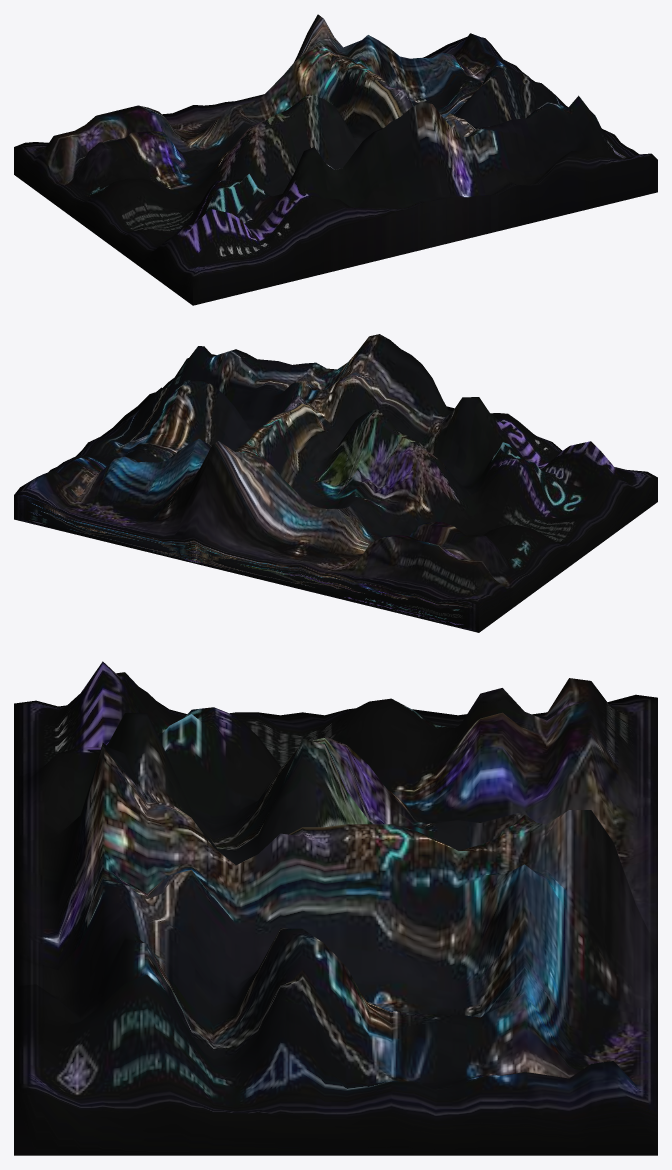
Rendered from CAREER_16_Tool_07_Scale.glb.
3 views of the same model, one above another, from view 1: azimuth 30°, elevation 25°; view 2: azimuth 150°, elevation 25°; view 3: azimuth 270°, elevation 25° (orthographic). The views are drawn at different scales.
Visible parts, largest first — view 1: CAREER_16_Tool_07_Scale; view 2: CAREER_16_Tool_07_Scale; view 3: CAREER_16_Tool_07_Scale.
Part boxes in pixels (x1,y1,x2,y2): CAREER_16_Tool_07_Scale: (14, 14, 657, 305); CAREER_16_Tool_07_Scale: (14, 334, 657, 632); CAREER_16_Tool_07_Scale: (14, 661, 657, 1155).
Size of the model in its own units: 2 by 0.51 by 1.33.
1 material, 1 textured.
